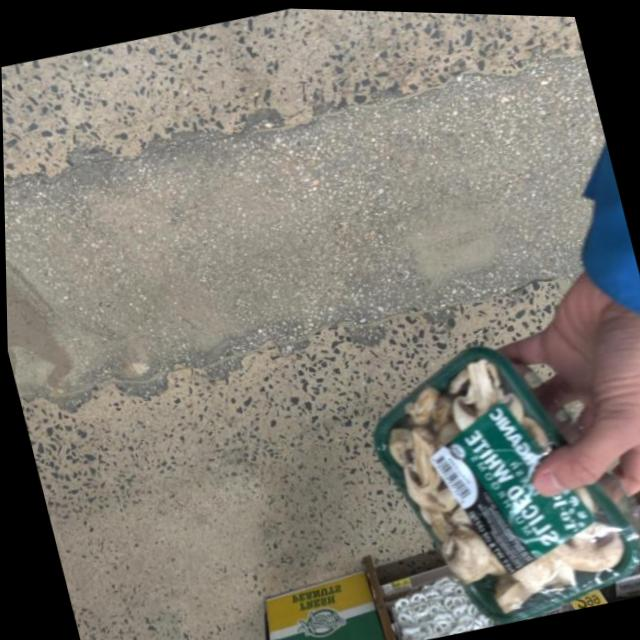Mushrooms: (352, 315, 640, 633)
